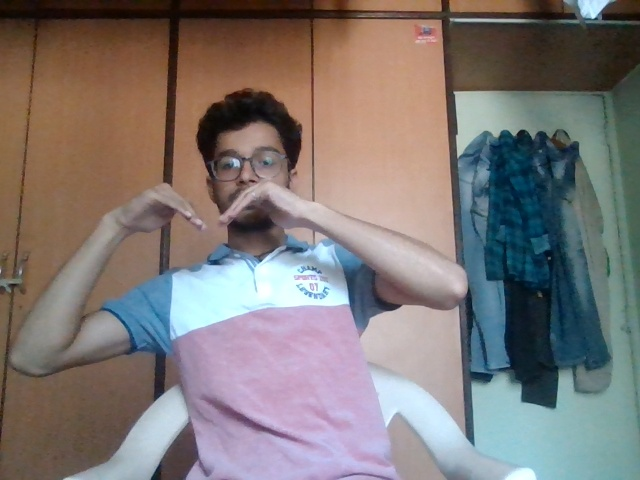we: (116, 166, 343, 269)
